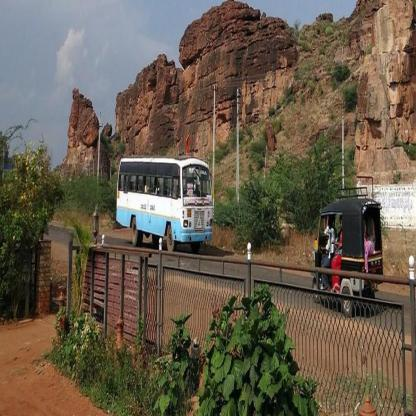bus: (78, 219, 142, 363)
